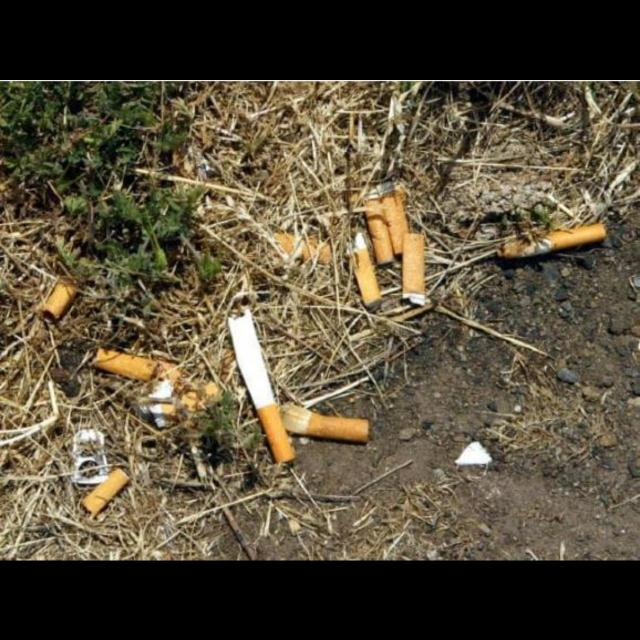cigarette: (228, 309, 296, 463), (503, 223, 606, 258), (280, 403, 370, 442), (363, 185, 394, 263), (83, 468, 131, 518), (378, 180, 409, 252), (96, 347, 158, 382), (273, 232, 332, 264), (355, 232, 381, 304), (402, 233, 425, 306), (43, 278, 79, 320)
